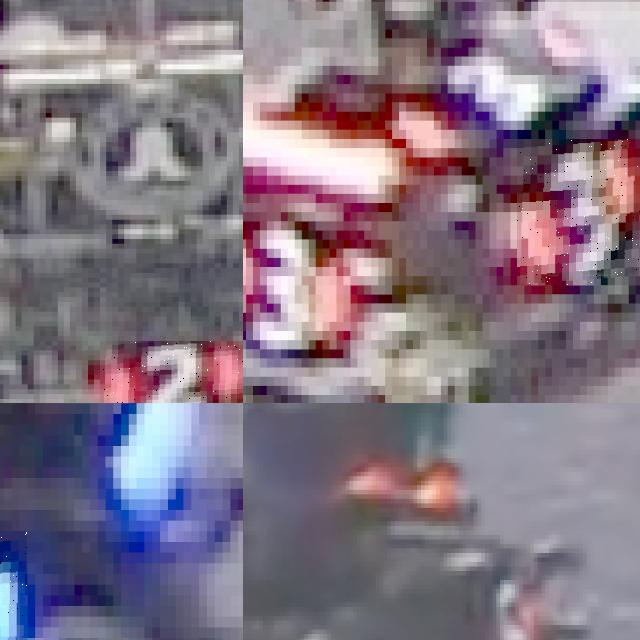R2: (100, 340, 243, 403)
R3: (517, 138, 640, 285), (243, 221, 350, 349)
